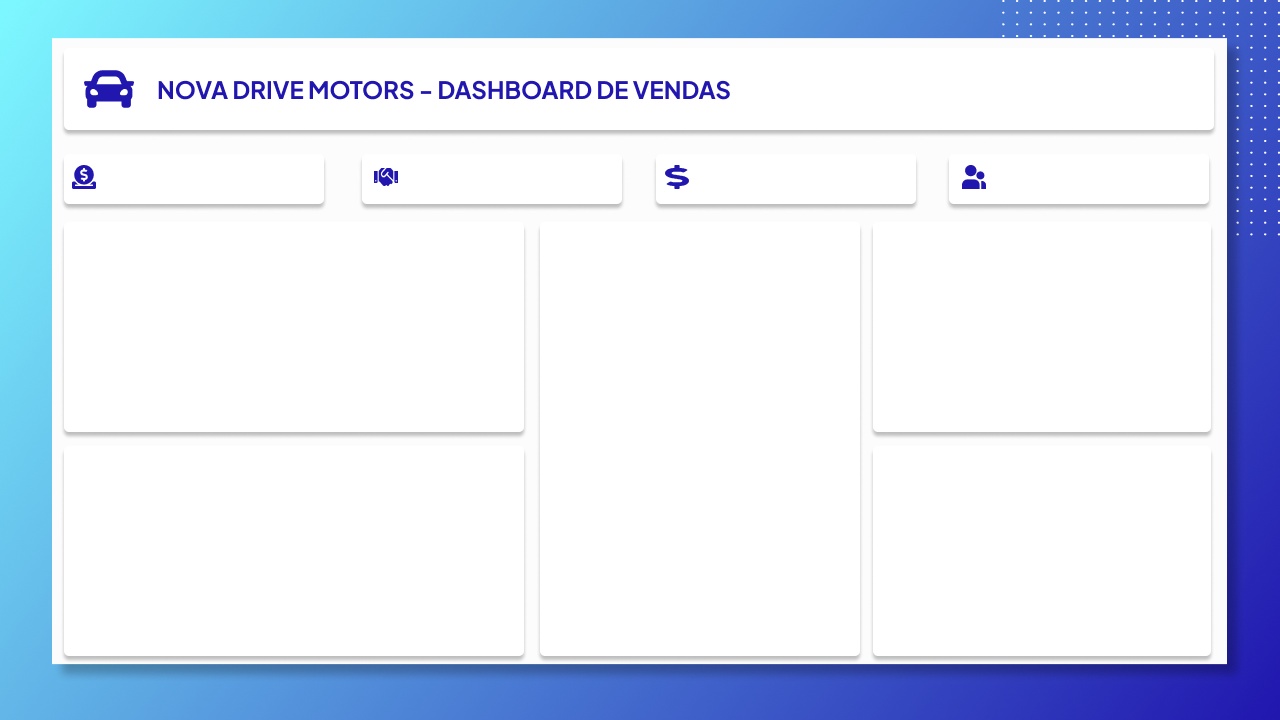

Layout of this report page (visuals, bound fields, positions):
{"tool":"powerbi","page":{"name":"Dashboard","canvas":[1280,720],"ordinal":1},"visuals":[{"type":"card","title":"Faturamento","fields":{"Values":["Medidas.TOTAL VENDAS"]},"box":[63.2,152.8,264.3,51.8],"z":0},{"type":"card","title":"Veículos Vendidos","fields":{"Values":["Medidas.QTDE VENDAS"]},"box":[361.8,152.8,257.3,51.8],"z":1000},{"type":"card","title":"Ticket Médio","fields":{"Values":["Medidas.TICKET MEDIO"]},"box":[656.8,152.8,256.4,51.8],"z":2000},{"type":"lineClusteredColumnComboChart","title":"Vendas e Faturamento por Dia","fields":{"Y":["Medidas.QTDE VENDAS"],"Y2":["Medidas.FATURAMENTO"],"Category":["dCalendario.data"]},"box":[67.6,221.3,457.5,209],"z":3000},{"type":"map","title":"Faturamento por Concessionária","fields":{"Category":["DIM_CONCESSIONARIAS.CIDADE"],"Size":["Medidas.FATURAMENTO"]},"box":[540,221.3,319.6,431.1],"z":4000},{"type":"tableEx","fields":{"Values":["DIM_CONCESSIONARIAS.CIDADE","Medidas.FATURAMENTO","Divide(Medidas.FATURAMENTO, ScopedEval(Medidas.FATURAMENTO, []))","Medidas.QTDE VENDAS","Medidas.TICKET MEDIO"]},"box":[63.2,443.4,467.1,209],"z":5000},{"type":"barChart","title":"Quantidade de Vendas por Veículo","fields":{"Y":["Medidas.QTDE VENDAS"],"Category":["DIM_VEICULOS.NOME_VEICULO"]},"box":[872.8,221.3,338,222.1],"z":6000},{"type":"donutChart","title":"Percentual do Faturamento por Categoria","fields":{"Category":["DIM_VEICULOS.Categoria"],"Y":["Medidas.FATURAMENTO"]},"box":[872.8,443.4,337.2,209],"z":7000},{"type":"slicer","fields":{"Values":["dCalendario.data"]},"box":[976.5,60.9,233.9,55.3],"z":8000},{"type":"card","title":"Clientes Atendidos","fields":{"Values":["Medidas.QTDE CLIENTES"]},"box":[947.4,152.8,256.4,51.8],"z":9000}]}

Visuals, with their boxes in screenshot pixels (x1, y1, x2, y2), scaled from the page's 1280x720 canvas onto the 1280x720 screenshot:
"Faturamento" card: x1=63, y1=153, x2=328, y2=205
"Veículos Vendidos" card: x1=362, y1=153, x2=619, y2=205
"Ticket Médio" card: x1=657, y1=153, x2=913, y2=205
"Vendas e Faturamento por Dia" lineClusteredColumnComboChart: x1=68, y1=221, x2=525, y2=430
"Faturamento por Concessionária" map: x1=540, y1=221, x2=860, y2=652
tableEx - DIM_CONCESSIONARIAS.CIDADE x Medidas.FATURAMENTO: x1=63, y1=443, x2=530, y2=652
"Quantidade de Vendas por Veículo" barChart: x1=873, y1=221, x2=1211, y2=443
"Percentual do Faturamento por Categoria" donutChart: x1=873, y1=443, x2=1210, y2=652
slicer - dCalendario.data: x1=976, y1=61, x2=1210, y2=116
"Clientes Atendidos" card: x1=947, y1=153, x2=1204, y2=205
